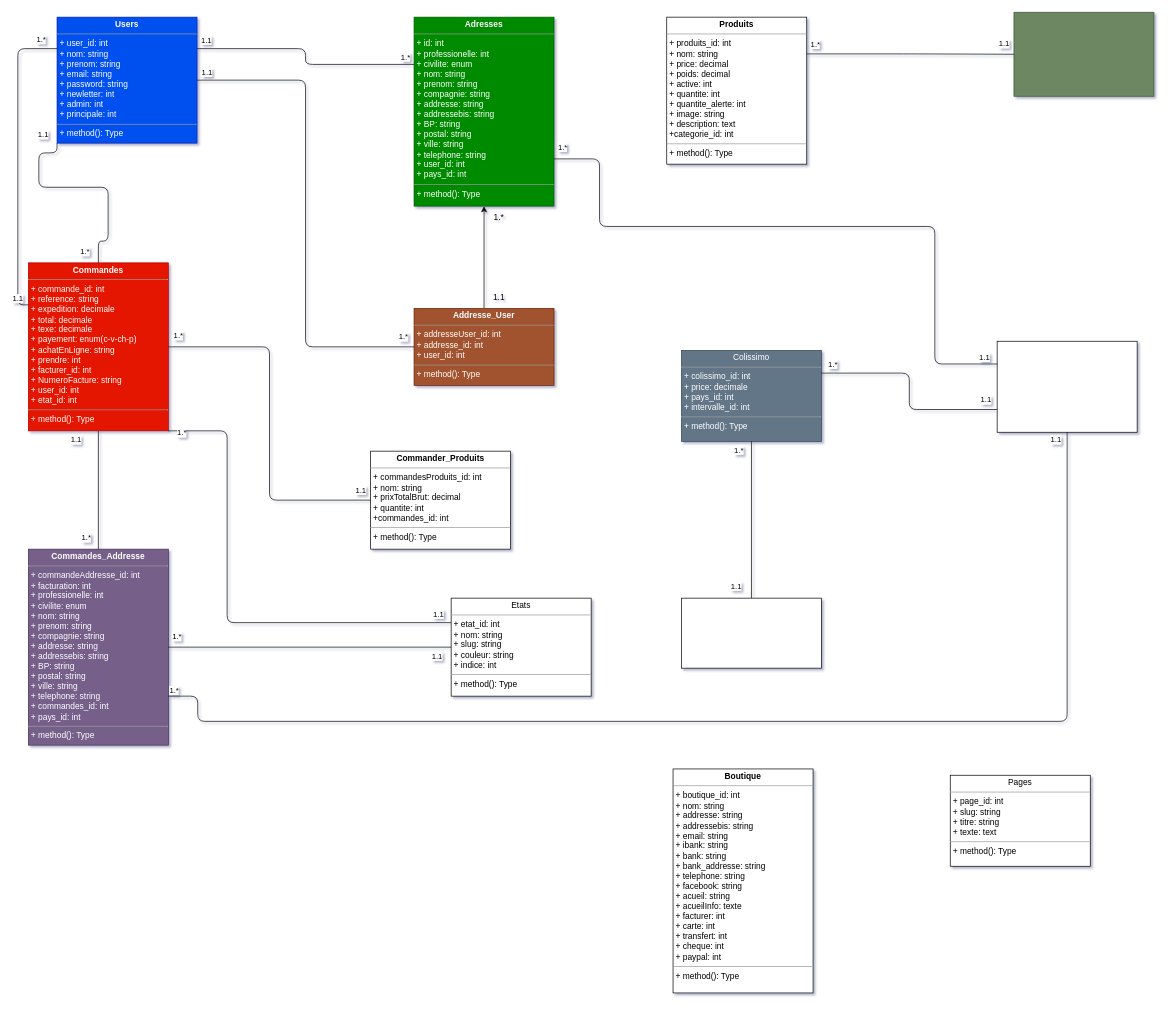
Image size: 1170x1009. Some labels were removed from this diagram. The shapes that lost their labels are listed below. From the top down, each one's centre as x and y in pixels, then its label:
At point (1083, 54): "Categories + categorie_id: int + nom: string + slug: string + method(): Type".
At point (1066, 386): "Pays + pays_id: int + nom: string + impot: decimale + method(): Type".
At point (751, 632): "Intervalle + intervalle_id: int + max: decimale + method(): Type".
